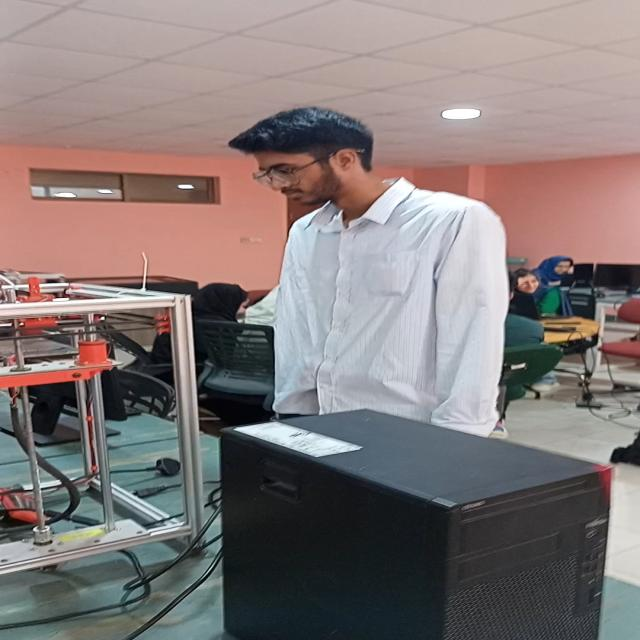dress: (249, 178, 517, 468)
glasses: (246, 166, 320, 186)
